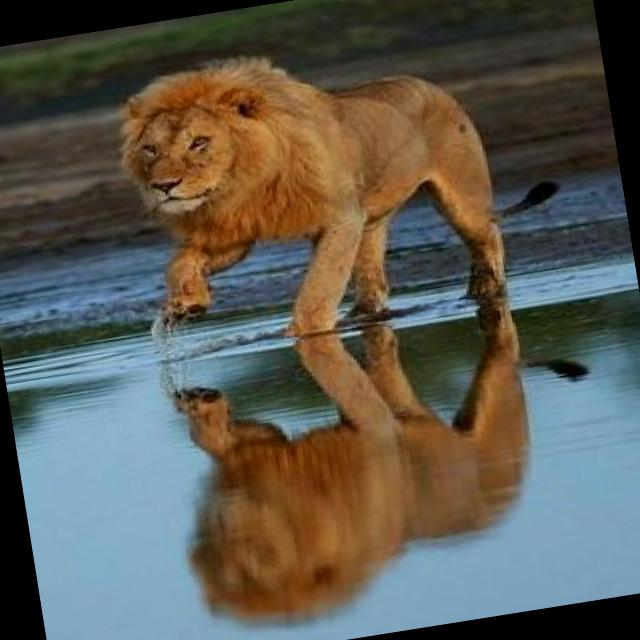lions: (60, 0, 640, 439)
